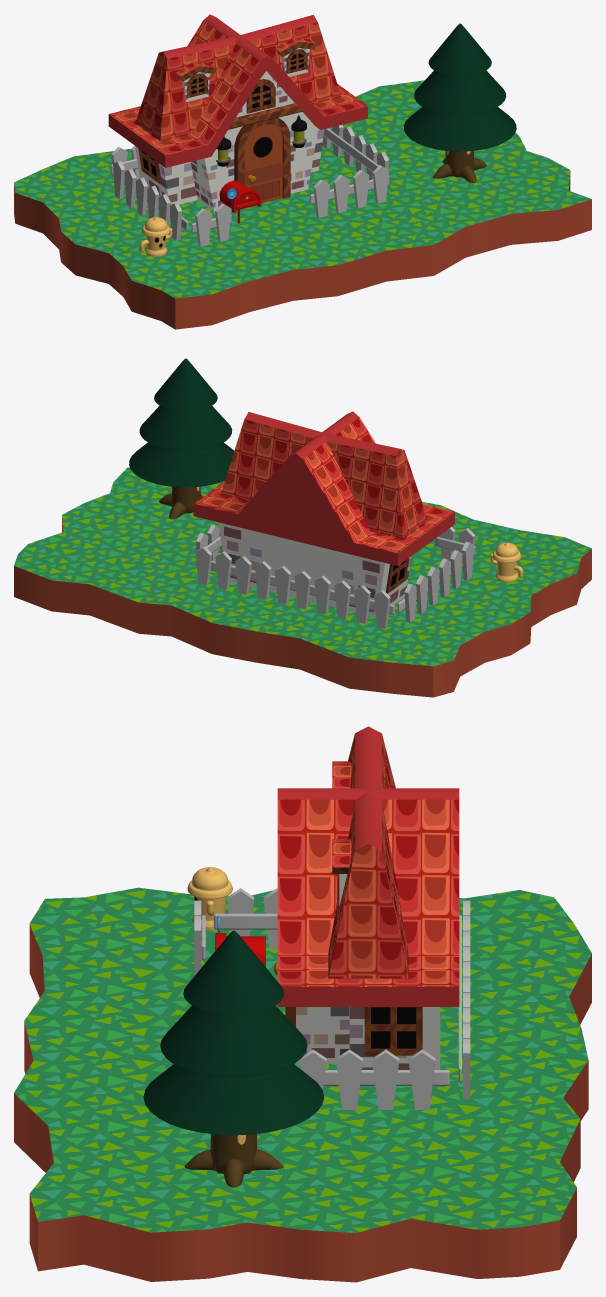
The model's file is Entregable.fbx.
3 renders of one model, top to bottom at view 1: azimuth 30°, elevation 25°; view 2: azimuth 150°, elevation 25°; view 3: azimuth 270°, elevation 25°, orthographic. The views are drawn at different scales.
Parts seen in each view (by area): view 1: Base, House_Roof_Front, TreeResizeCopy, House_Roof_Side, House_Extended_Front, Door, House_Base, Door_Marque, Tree_OneShape_Test006, Gyroid, House_Roof_Bar, Window (+10 smaller); view 2: Base, House_Roof_Front, House_Roof_Side, TreeResizeCopy, House_Base, Tree_OneShape_Test006, Gyroid, Fence_Bar_Back, Fence_Individual016, Fence_Individual022, Fence_Individual018, Fence_Individual023 (+7 smaller); view 3: Base, House_Roof_Front, TreeResizeCopy, House_Roof_Side, Window_Squared_Right, Tree_OneShape_Test006, House_Extended_Front, House_Base, Gyroid, Fence_Individual009, Fence_Individual011, Fence_Individual010 (+2 smaller).
Part boxes in pixels (x1,y1,x2,y2): Base: (14, 80, 591, 329); House_Roof_Front: (108, 14, 367, 167); TreeResizeCopy: (403, 23, 516, 151); House_Roof_Side: (135, 15, 341, 140); House_Extended_Front: (190, 71, 318, 212); Door: (244, 124, 283, 203); House_Base: (135, 128, 324, 204); Door_Marque: (234, 118, 290, 198); Tree_OneShape_Test006: (432, 150, 486, 182); Gyroid: (142, 217, 170, 256); House_Roof_Bar: (228, 103, 303, 129); Window: (246, 79, 275, 113); Base: (14, 467, 591, 697); House_Roof_Front: (193, 411, 454, 565); House_Roof_Side: (220, 412, 427, 538); TreeResizeCopy: (129, 358, 234, 487); House_Base: (218, 522, 411, 617); Tree_OneShape_Test006: (159, 486, 202, 518); Gyroid: (492, 542, 521, 582); Fence_Bar_Back: (196, 561, 394, 615); Fence_Individual016: (195, 546, 212, 585); Fence_Individual022: (314, 575, 331, 614); Fence_Individual018: (235, 556, 251, 594); Fence_Individual023: (334, 580, 350, 618); Base: (14, 887, 591, 1282); House_Roof_Front: (277, 788, 459, 1006); TreeResizeCopy: (143, 930, 324, 1135); House_Roof_Side: (328, 726, 408, 978); Window_Squared_Right: (364, 1007, 422, 1055); Tree_OneShape_Test006: (184, 1134, 282, 1187); House_Extended_Front: (296, 1007, 349, 1063); House_Base: (349, 1007, 440, 1069); Gyroid: (187, 867, 232, 930); Fence_Individual009: (336, 1049, 362, 1109); Fence_Individual011: (408, 1049, 435, 1109); Fence_Individual010: (372, 1049, 399, 1109).
Size of the model in its own units: 228 by 88.5 by 159.
